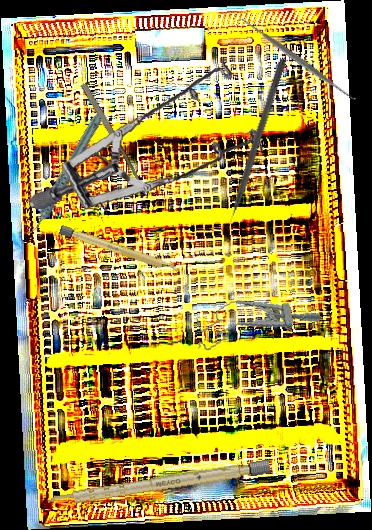Handpiece: (2, 108, 127, 237)
Needle Holder: (61, 81, 151, 210)
Pusher: (219, 57, 288, 239)
Scalpel Handle: (46, 459, 271, 509), (58, 224, 181, 276)
Spatula Surgical: (234, 10, 360, 108)
Speculum: (26, 39, 274, 236), (191, 286, 323, 353)
